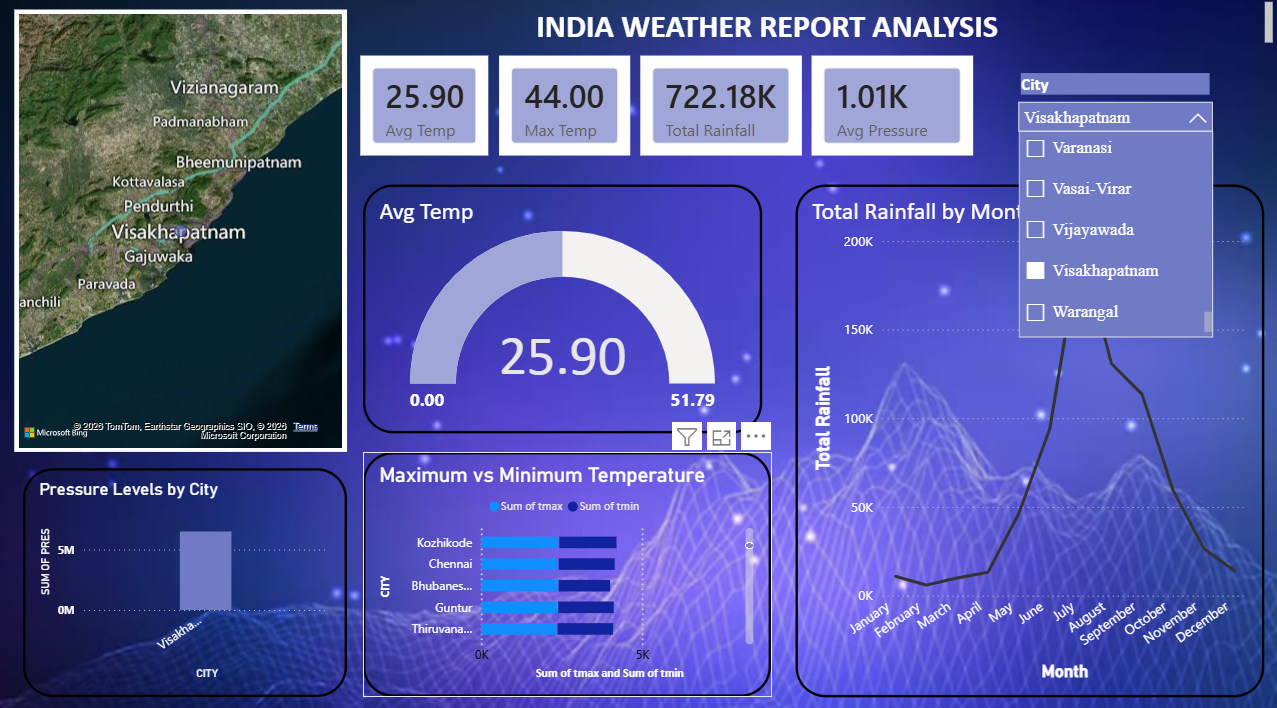

This screenshot's page, from the dashboard's own definition file:
{"tool":"powerbi","page":{"name":"Page 1","canvas":[1280,720],"ordinal":0},"visuals":[{"type":"textbox","box":[339,0,941,53.1],"z":0},{"type":"slicer","fields":{"Values":["popular_cities_weather (2).city"]},"box":[1009.8,71.2,214.7,91.7],"z":1000},{"type":"map","fields":{"Category":["popular_cities_weather (2).city"],"Size":["popular_cities_weather.Avg Temp"]},"box":[15.7,12.1,333,442.8],"z":2000},{"type":"cardVisual","fields":{"Data":["popular_cities_weather.Avg Temp"]},"box":[357.8,53.3,138.9,110],"z":3000},{"type":"cardVisual","fields":{"Data":["popular_cities_weather.Max Temp"]},"box":[496.7,53.3,141.1,110],"z":4000},{"type":"cardVisual","fields":{"Data":["popular_cities_weather.Total Rainfall"]},"box":[637.8,53.3,171.1,110],"z":5000},{"type":"cardVisual","fields":{"Data":["popular_cities_weather.Avg Pressure"]},"box":[808.9,53.3,171.1,110],"z":6000},{"type":"gauge","fields":{"Y":["popular_cities_weather.Avg Temp"]},"box":[365.6,187,399.3,248.5],"z":7000},{"type":"barChart","title":"Maximum vs Minimum Temperature","fields":{"Category":["popular_cities_weather.city"],"Y":["Sum(popular_cities_weather.tmax)","Sum(popular_cities_weather.tmin)"]},"box":[365.6,454.8,407.8,244.9],"z":8000},{"type":"lineStackedColumnComboChart","title":"Pressure Levels by City","fields":{"Category":["popular_cities_weather (2).city"],"Y":["Sum(popular_cities_weather.pres)"]},"box":[25,471.2,323.8,228.8],"z":9000},{"type":"lineChart","fields":{"Category":["popular_cities_weather.date.Variation.Date Hierarchy.Year","popular_cities_weather.date.Variation.Date Hierarchy.Quarter","popular_cities_weather.date.Variation.Date Hierarchy.Month","popular_cities_weather.date.Variation.Date Hierarchy.Day"],"Y":["popular_cities_weather.Total Rainfall"]},"box":[797.5,187.5,468.8,512.5],"z":10000}]}

Visuals, with their boxes in screenshot pixels (x1, y1, x2, y2), scaled from the page's 1280x720 canvas onto the 1277x708 screenshot:
textbox: bbox=[338, 0, 1276, 52]
slicer - popular_cities_weather (2).city: bbox=[1007, 70, 1222, 160]
map - popular_cities_weather (2).city x popular_cities_weather.Avg Temp: bbox=[16, 12, 348, 447]
cardVisual - popular_cities_weather.Avg Temp: bbox=[357, 52, 496, 161]
cardVisual - popular_cities_weather.Max Temp: bbox=[496, 52, 636, 161]
cardVisual - popular_cities_weather.Total Rainfall: bbox=[636, 52, 807, 161]
cardVisual - popular_cities_weather.Avg Pressure: bbox=[807, 52, 978, 161]
gauge - popular_cities_weather.Avg Temp: bbox=[365, 184, 763, 428]
"Maximum vs Minimum Temperature" barChart: bbox=[365, 447, 772, 688]
"Pressure Levels by City" lineStackedColumnComboChart: bbox=[25, 463, 348, 688]
lineChart - popular_cities_weather.date.Variation.Date Hierarchy.Year x popular_cities_weather.date.Variation.Date Hierarchy.Quarter: bbox=[796, 184, 1263, 688]
